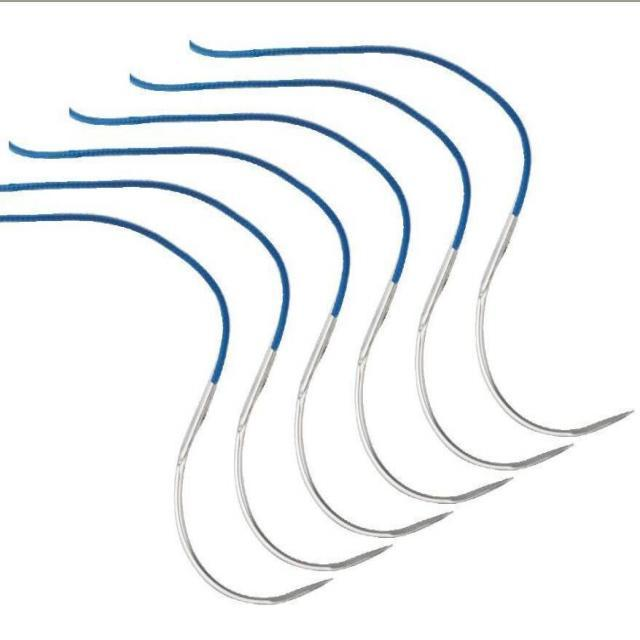Needle: (170, 377, 338, 608), (412, 244, 579, 476), (470, 214, 640, 441), (230, 343, 395, 576), (351, 282, 517, 509), (292, 313, 454, 542)
